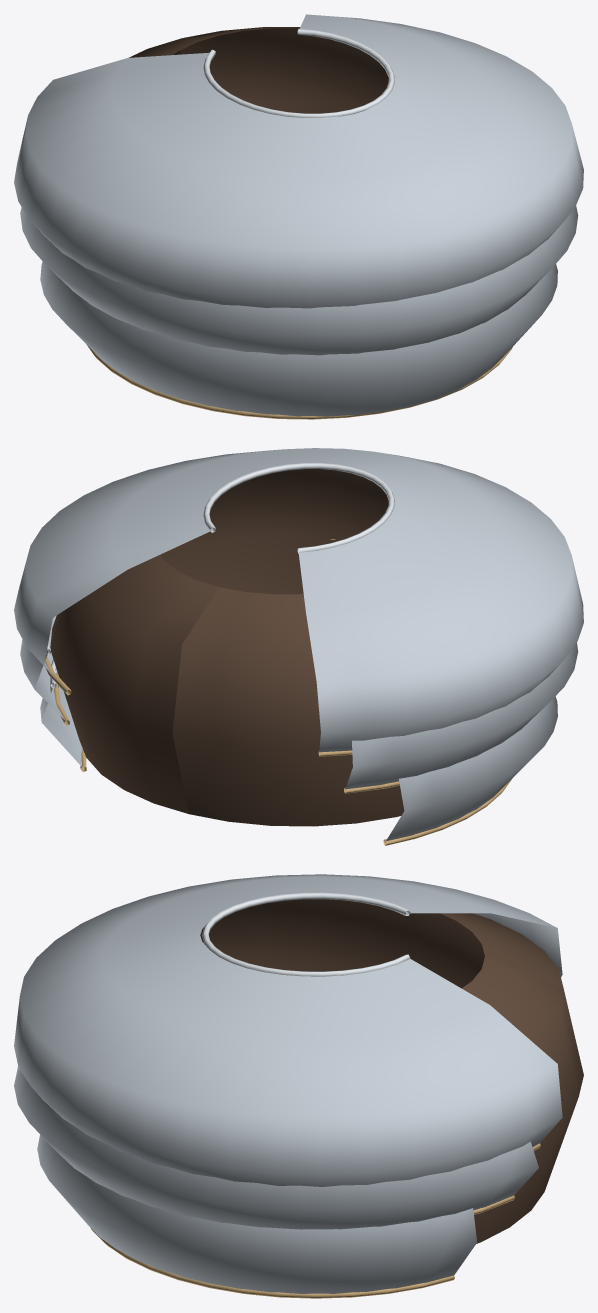
Rendered from shoulder.glb.
3 renders of one model, top to bottom at view 1: azimuth 30°, elevation 25°; view 2: azimuth 150°, elevation 25°; view 3: azimuth 270°, elevation 25°, orthographic. The views are drawn at different scales.
Visible parts, largest first — view 1: pauldron_crown, pauldron_lame3, pauldron_lame2, leather_underlayer, pauldron_crown_bevel, pauldron_lame3_gold_rim; view 2: pauldron_crown, leather_underlayer, pauldron_lame2, pauldron_lame3, pauldron_crown_bevel, pauldron_lame3_gold_rim, pauldron_lame2_gold_rim; view 3: pauldron_crown, leather_underlayer, pauldron_lame3, pauldron_lame2, pauldron_crown_bevel, pauldron_lame3_gold_rim.
Boxes of the visible parts, box(x1,y1,x2,y2) form: pauldron_crown: box(14, 14, 583, 308); pauldron_lame3: box(40, 262, 557, 416); pauldron_lame2: box(20, 206, 578, 355); leather_underlayer: box(128, 27, 388, 113); pauldron_crown_bevel: box(203, 28, 394, 117); pauldron_lame3_gold_rim: box(86, 344, 512, 419); pauldron_crown: box(14, 448, 583, 752); leather_underlayer: box(50, 469, 404, 826); pauldron_lame2: box(20, 615, 578, 790); pauldron_lame3: box(40, 680, 557, 842); pauldron_crown_bevel: box(203, 463, 394, 553); pauldron_lame3_gold_rim: box(80, 749, 512, 845); pauldron_lame2_gold_rim: box(54, 672, 399, 793); pauldron_crown: box(14, 874, 562, 1186); leather_underlayer: box(200, 899, 583, 1243); pauldron_lame3: box(37, 1134, 476, 1293); pauldron_lame2: box(14, 1066, 538, 1229); pauldron_crown_bevel: box(202, 892, 410, 976); pauldron_lame3_gold_rim: box(91, 1228, 454, 1298).
Size of the model in its own units: 2.08 by 1.02 by 1.96.
